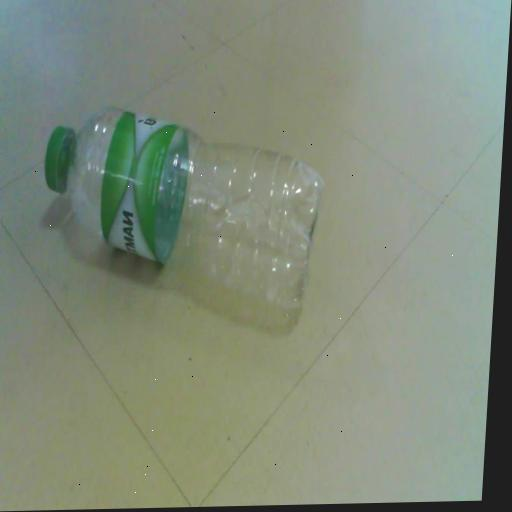bottle: (37, 103, 327, 329)
